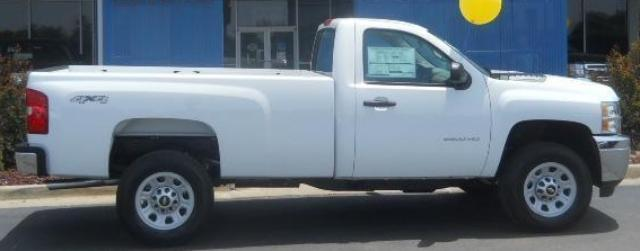pickup-truck: (14, 17, 631, 246)
